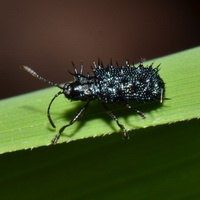insect: (21, 58, 164, 143)
